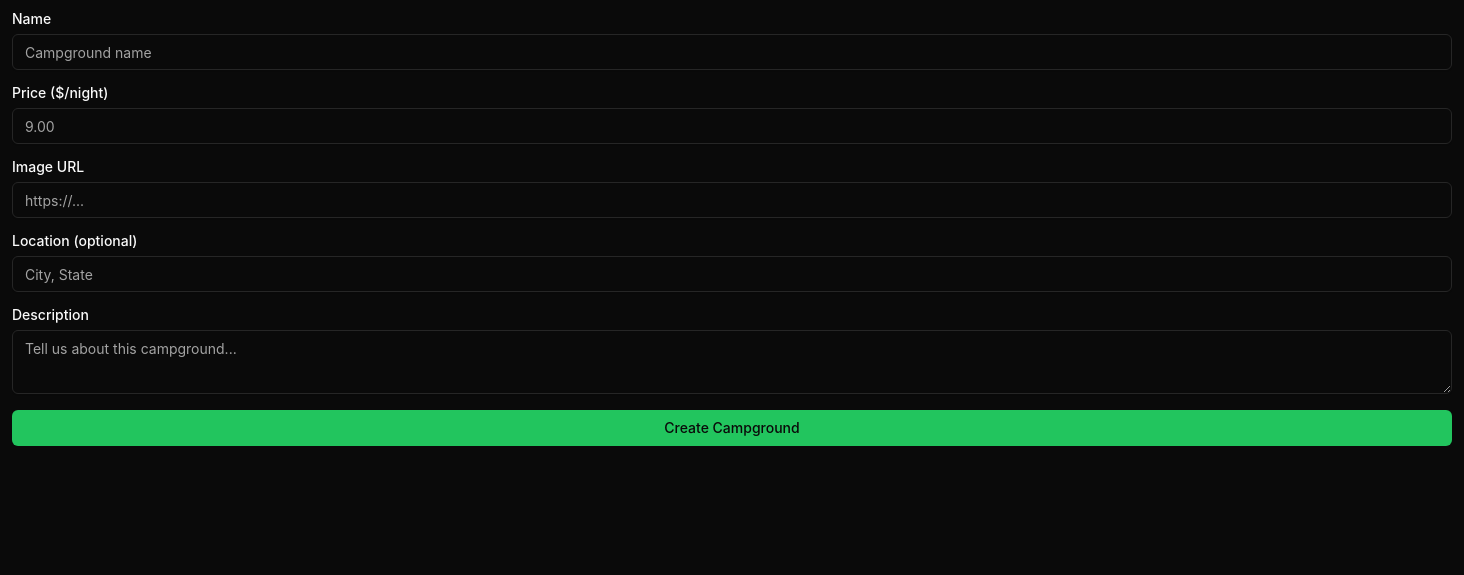
it: CampgroundForm › shows validation error for empty required fields on submit
Click the button "Create Campground" at point(732, 428), box x1=12 y1=410 x2=1452 y2=446
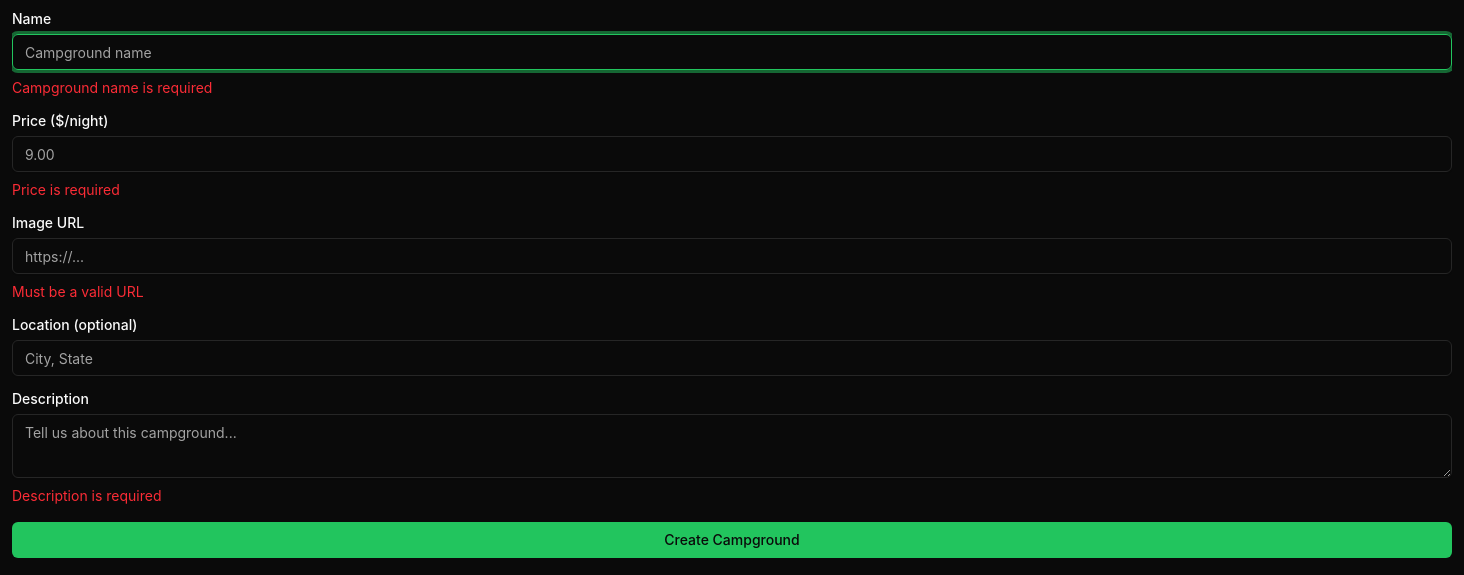
Expected: the text "Campground name is required" is shown, x1=12 y1=79 x2=212 y2=96
